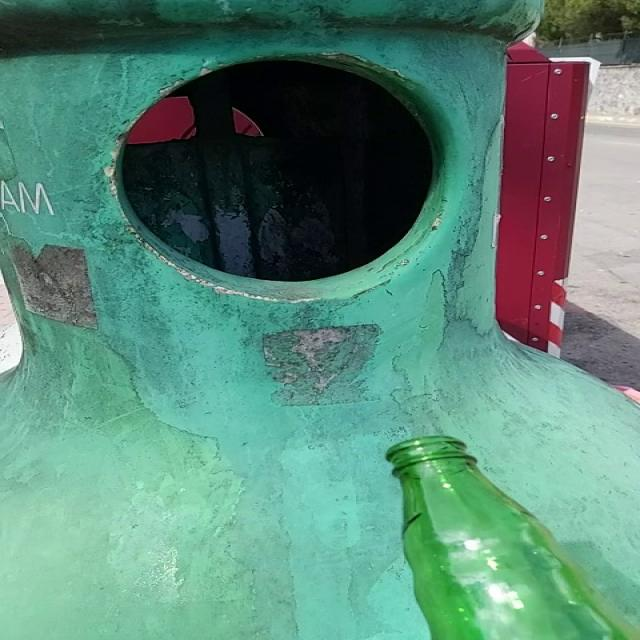glass: (387, 436, 639, 640)
